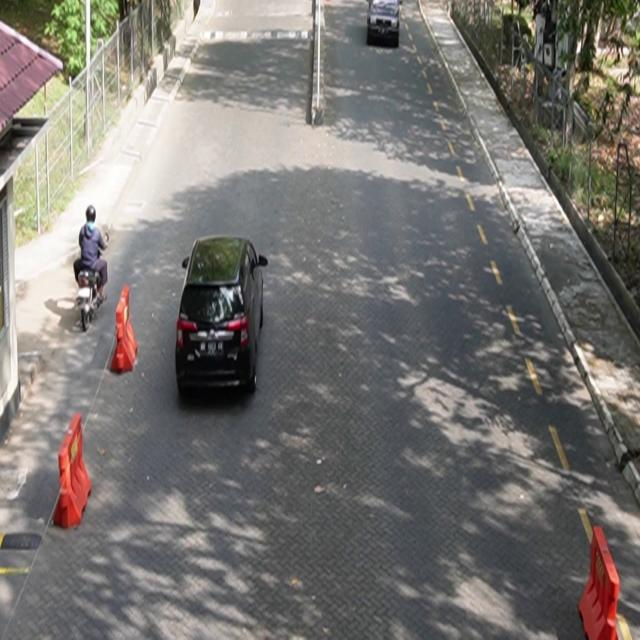car: (176, 235, 269, 398), (368, 1, 402, 47)
